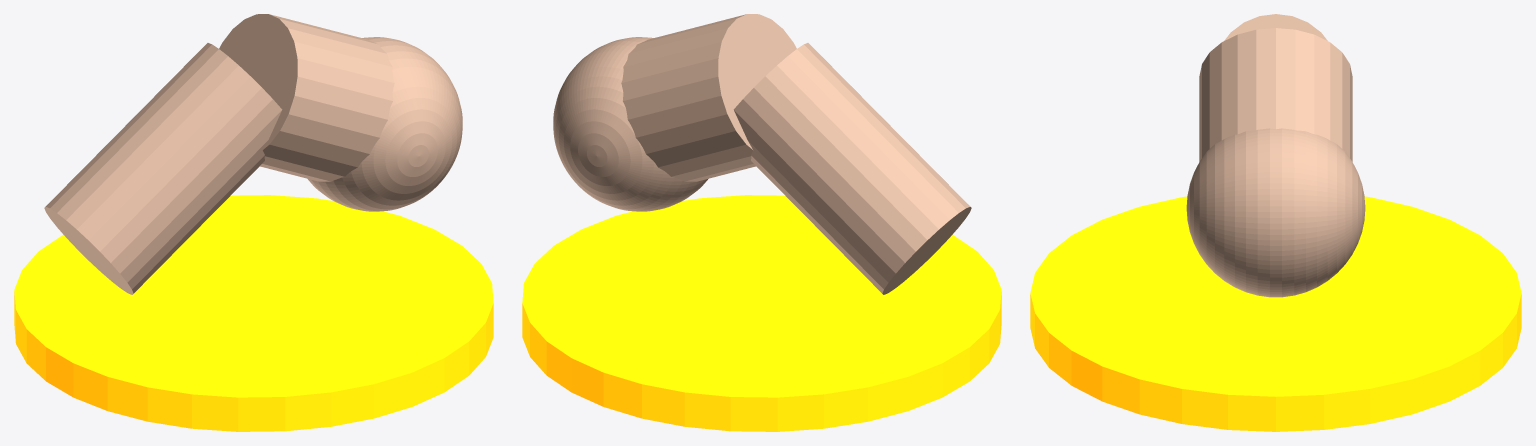
The model's file is fitness_flexed_arm.glb.
3 views of the same model, side by side, from view 1: azimuth 30°, elevation 25°; view 2: azimuth 150°, elevation 25°; view 3: azimuth 270°, elevation 25° (orthographic). The views are drawn at different scales.
Visible parts, largest first — view 1: 02_19_Popular_Fitness_Flexed_Arm_ROOT_base, 02_19_Popular_Fitness_Flexed_Arm_part_01, 02_19_Popular_Fitness_Flexed_Arm_part_02, 02_19_Popular_Fitness_Flexed_Arm_part_03; view 2: 02_19_Popular_Fitness_Flexed_Arm_ROOT_base, 02_19_Popular_Fitness_Flexed_Arm_part_01, 02_19_Popular_Fitness_Flexed_Arm_part_02, 02_19_Popular_Fitness_Flexed_Arm_part_03; view 3: 02_19_Popular_Fitness_Flexed_Arm_ROOT_base, 02_19_Popular_Fitness_Flexed_Arm_part_03, 02_19_Popular_Fitness_Flexed_Arm_part_02, 02_19_Popular_Fitness_Flexed_Arm_part_01.
Part boxes in pixels (left/top/right/bottom): 02_19_Popular_Fitness_Flexed_Arm_ROOT_base: left=14, top=195, right=493, bottom=431; 02_19_Popular_Fitness_Flexed_Arm_part_01: left=44, top=43, right=282, bottom=294; 02_19_Popular_Fitness_Flexed_Arm_part_02: left=219, top=14, right=394, bottom=181; 02_19_Popular_Fitness_Flexed_Arm_part_03: left=307, top=37, right=462, bottom=211; 02_19_Popular_Fitness_Flexed_Arm_ROOT_base: left=522, top=195, right=1001, bottom=431; 02_19_Popular_Fitness_Flexed_Arm_part_01: left=733, top=43, right=971, bottom=294; 02_19_Popular_Fitness_Flexed_Arm_part_02: left=621, top=14, right=796, bottom=181; 02_19_Popular_Fitness_Flexed_Arm_part_03: left=553, top=37, right=708, bottom=211; 02_19_Popular_Fitness_Flexed_Arm_ROOT_base: left=1030, top=196, right=1521, bottom=431; 02_19_Popular_Fitness_Flexed_Arm_part_03: left=1186, top=128, right=1365, bottom=297; 02_19_Popular_Fitness_Flexed_Arm_part_02: left=1199, top=28, right=1352, bottom=161; 02_19_Popular_Fitness_Flexed_Arm_part_01: left=1224, top=14, right=1327, bottom=40.
Bounding box in the file's own units: 0.76 × 0.5339 × 0.76.
